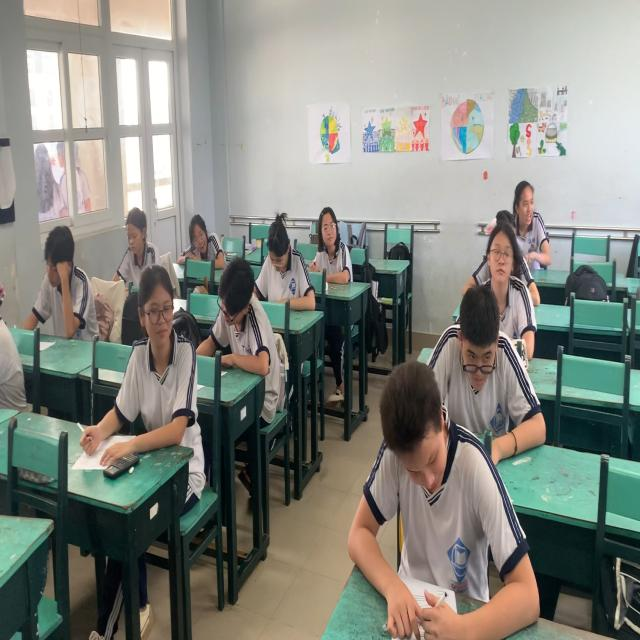cheating: (125, 265, 203, 440), (515, 176, 548, 265), (181, 209, 228, 262)
not_cheating: (342, 360, 489, 621), (446, 279, 518, 427), (479, 223, 535, 344), (30, 225, 90, 335), (213, 256, 272, 364), (255, 209, 313, 309), (311, 203, 352, 282), (113, 206, 159, 272)
